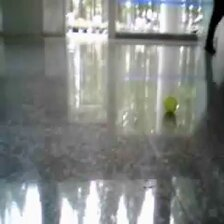tennis: (163, 96, 177, 112)
